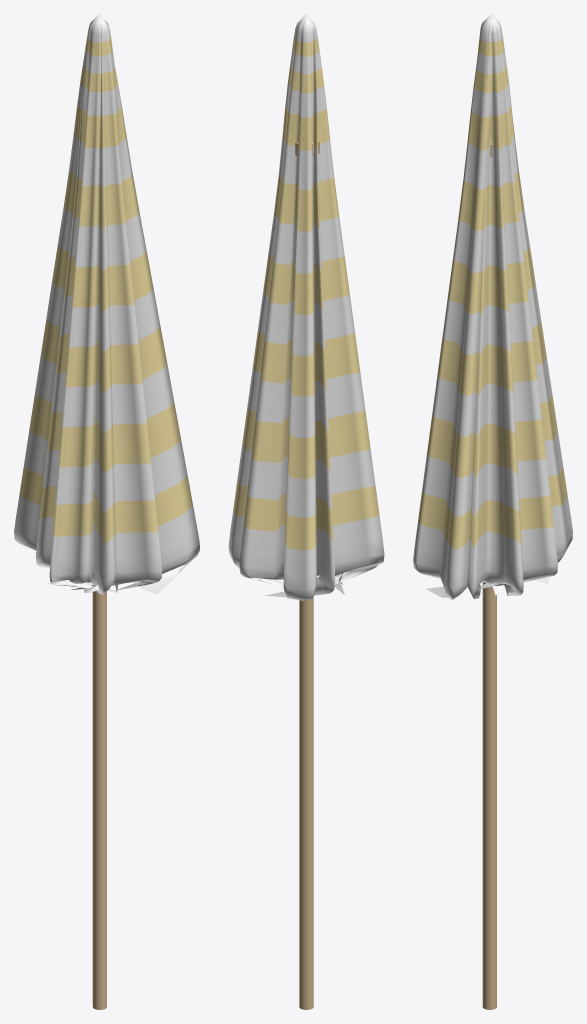
File: kapalı şemsıye.fbx
The picture shows the model from 3 angles, left to right: view 1: azimuth 30°, elevation 25°; view 2: azimuth 150°, elevation 25°; view 3: azimuth 270°, elevation 25°; orthographic projection.
Parts seen in each view (by area): view 1: Cylinder.012; view 2: Cylinder.012; view 3: Cylinder.012.
Part boxes in pixels (box(x1,y1,x2,y2)): Cylinder.012: box(14, 14, 199, 1009); Cylinder.012: box(228, 14, 384, 1009); Cylinder.012: box(413, 14, 572, 1009).
Bounding box in the file's own units: 354 × 2297 × 335.
